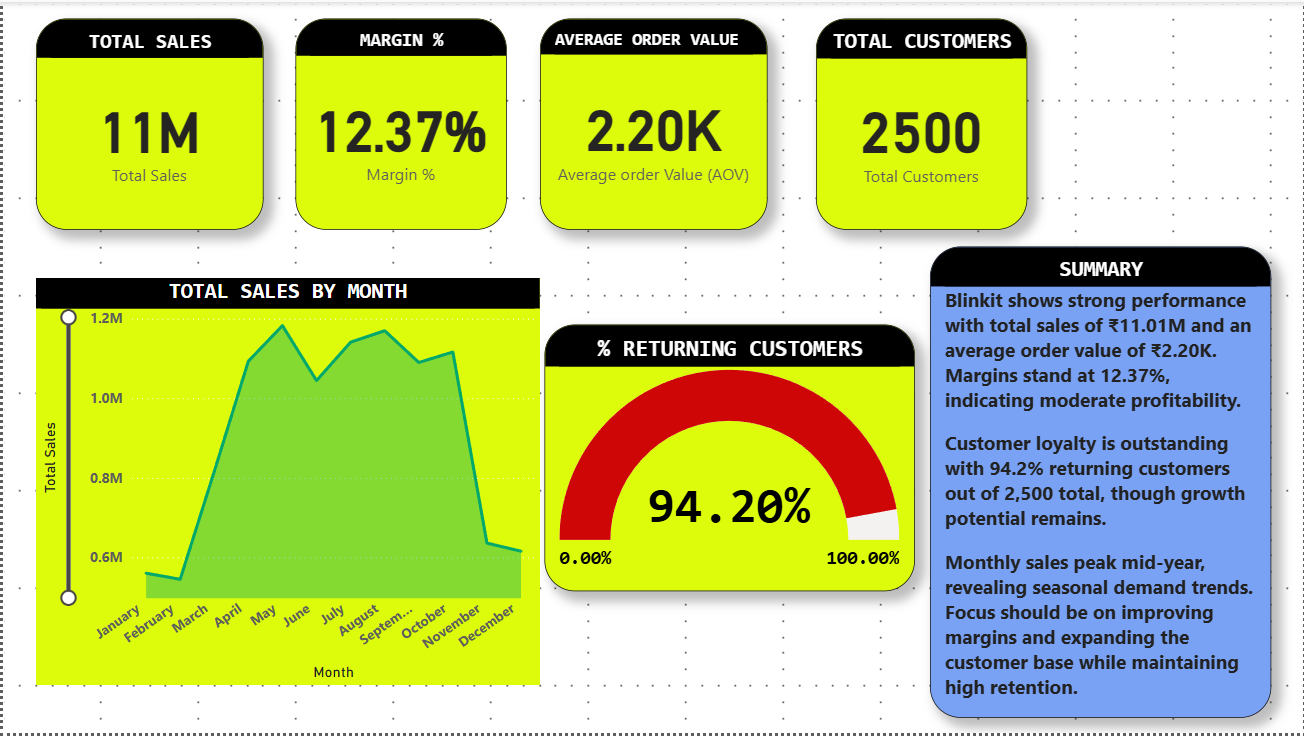

The dashboard page shown, as its layout file describes it:
{"tool":"powerbi","page":{"name":"SUMMARY","canvas":[1280,720],"ordinal":6},"visuals":[{"type":"gauge","title":"% RETURNING CUSTOMERS","fields":{"Y":["blinkit_orders.% Returning Customers"]},"box":[532.9,317.5,364.7,262.7],"z":0},{"type":"lineChart","title":"TOTAL SALES  BY MONTH","fields":{"Category":["blinkit_orders.order_date.Variation.Date Hierarchy.Month"],"Y":["blinkit_orders.Total Sales"]},"box":[32,272,496,400],"z":1000},{"type":"card","title":"TOTAL SALES","fields":{"Values":["blinkit_orders.Total Sales"]},"box":[32,16,224,208],"z":2000},{"type":"card","title":"MARGIN %","fields":{"Values":["blinkit_orders.Margin %"]},"box":[288,16,208,208],"z":3000},{"type":"card","title":"AVERAGE ORDER VALUE","fields":{"Values":["blinkit_orders.Average order Value (AOV)"]},"box":[528,16,224,208],"z":4000},{"type":"card","title":"TOTAL CUSTOMERS","fields":{"Values":["blinkit_orders.Total Customers"]},"box":[800,16,208,208],"z":6000},{"type":"textbox","title":"SUMMARY","box":[912,240,336,464],"z":7000}]}

Visuals, with their boxes in screenshot pixels (x1, y1, x2, y2), scaled from the page's 1280x720 canvas onto the 1304x737 screenshot:
"% RETURNING CUSTOMERS" gauge: box=[543, 325, 914, 594]
"TOTAL SALES  BY MONTH" lineChart: box=[33, 278, 538, 688]
"TOTAL SALES" card: box=[33, 16, 261, 229]
"MARGIN %" card: box=[293, 16, 505, 229]
"AVERAGE ORDER VALUE" card: box=[538, 16, 766, 229]
"TOTAL CUSTOMERS" card: box=[815, 16, 1027, 229]
"SUMMARY" textbox: box=[929, 246, 1271, 721]
